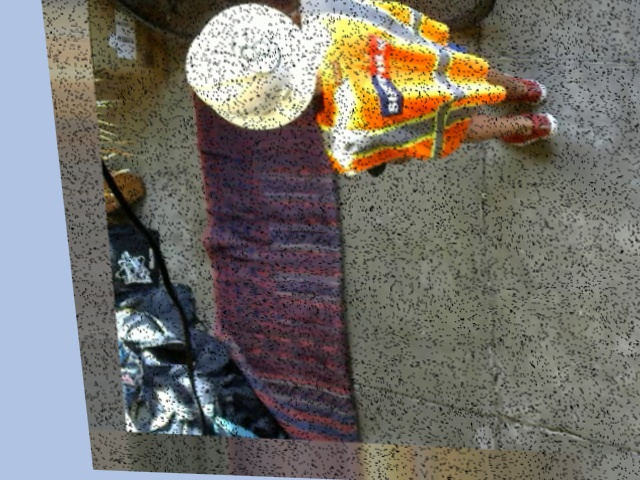eight: (228, 24, 282, 74)
